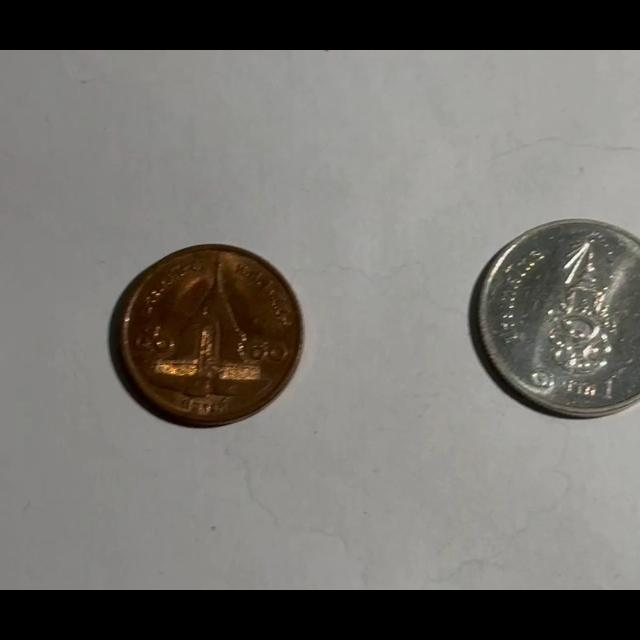1-baht: (471, 217, 640, 419)
50-satang: (113, 246, 299, 425)
